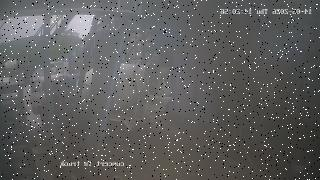cement_mixer_truck: (27, 60, 172, 144)
